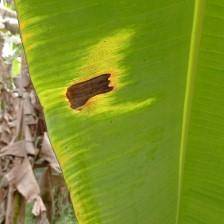cordana: (16, 0, 224, 224)
